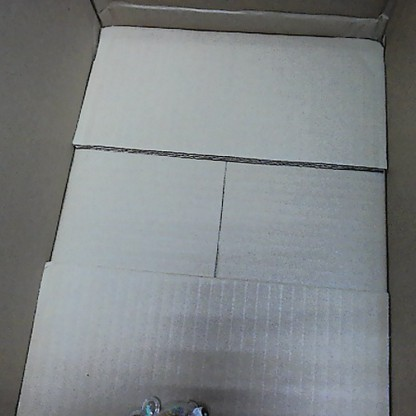whitefish: (121, 391, 211, 414)
